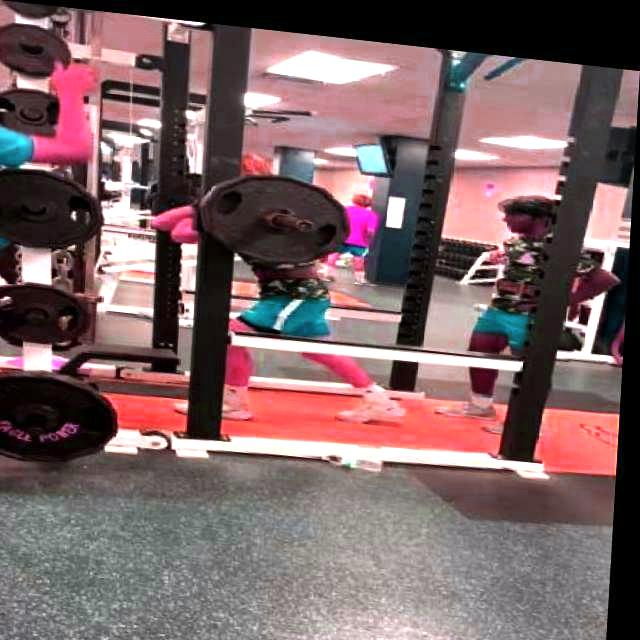barbell: (191, 160, 359, 272)
